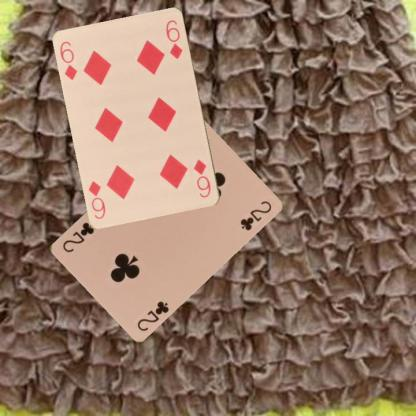2c: (134, 298, 170, 332)
6d: (191, 156, 213, 199), (57, 38, 79, 81)
